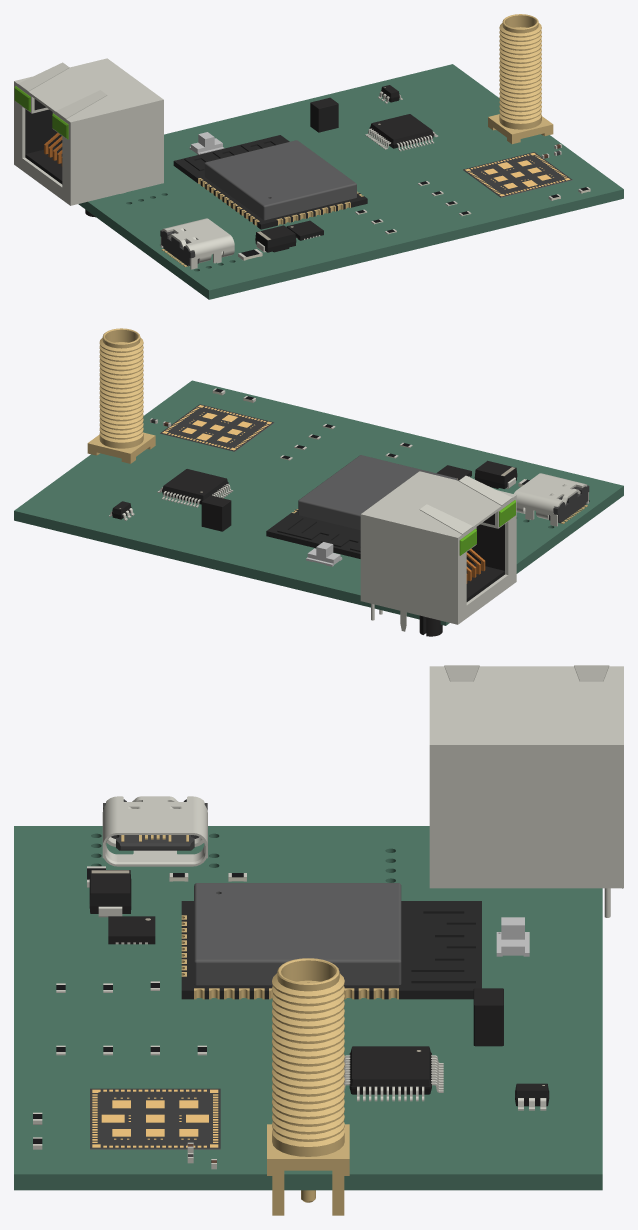
Rendered from esp32_eth_dect_nrf9151_gateway_min_2026-04-22_spi2.glb.
3 views of the same model, one above another, from view 1: azimuth 30°, elevation 25°; view 2: azimuth 150°, elevation 25°; view 3: azimuth 270°, elevation 25° (orthographic). The views are drawn at different scales.
Visible parts, largest first — view 1: PCB_BODY, J1, U1, J3, U3, J2, U2, U5, D7, U4_FILLET_AUX, U6; view 2: PCB_BODY, J1, U1, J3, U3, J2, U2, U5, D7, U4_FILLET_AUX; view 3: PCB_BODY, J1, U1, J3, U3, J2, U2, D7, U5, U6, U4_FILLET_AUX, U7.
Part boxes in pixels (box(x1,y1,x2,y2)): PCB_BODY: box(78, 64, 623, 299); J1: box(14, 58, 163, 217); U1: box(173, 135, 367, 229); J3: box(488, 14, 553, 144); U3: box(463, 152, 572, 197); J2: box(160, 218, 234, 269); U2: box(365, 114, 438, 151); U5: box(310, 97, 338, 132); D7: box(255, 225, 296, 252); U4_FILLET_AUX: box(189, 132, 224, 154); U6: box(286, 220, 323, 240); PCB_BODY: box(14, 380, 623, 625); J1: box(360, 471, 516, 636); U1: box(266, 455, 456, 558); J3: box(87, 328, 155, 463); U3: box(160, 404, 274, 451); J2: box(514, 473, 589, 526); U2: box(157, 469, 233, 507); U5: box(201, 495, 231, 531); D7: box(474, 460, 517, 488); U4_FILLET_AUX: box(306, 542, 342, 566); PCB_BODY: box(14, 826, 602, 1190); J1: box(429, 665, 623, 917); U1: box(181, 883, 481, 999); J3: box(267, 958, 349, 1215); U3: box(90, 1088, 220, 1149); J2: box(102, 796, 207, 866); U2: box(344, 1046, 443, 1101); D7: box(89, 870, 131, 917); U5: box(473, 988, 503, 1046); U6: box(108, 916, 155, 944); U4_FILLET_AUX: box(496, 917, 529, 956); U7: box(515, 1083, 549, 1110).
Bounding box in the file's own units: 0.0738 × 0.0215 × 0.0518.
